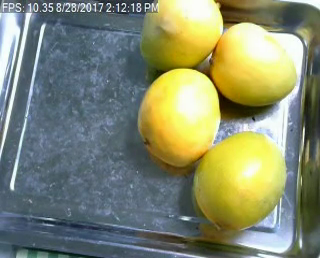Mango: (191, 132, 285, 232), (136, 67, 220, 165), (212, 23, 299, 104), (139, 1, 223, 71)
